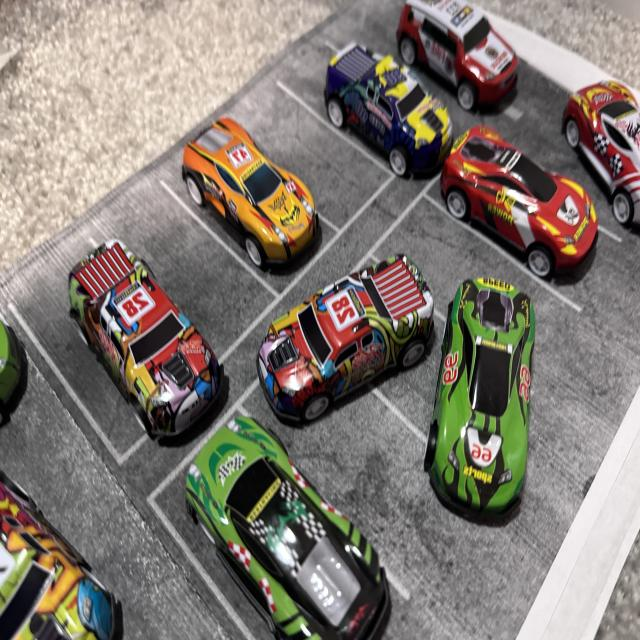car: (228, 244, 444, 432), (182, 439, 378, 640), (395, 280, 559, 503), (56, 248, 216, 450), (152, 123, 346, 289), (413, 122, 585, 301), (304, 60, 459, 167), (420, 0, 534, 130), (569, 78, 640, 264)
